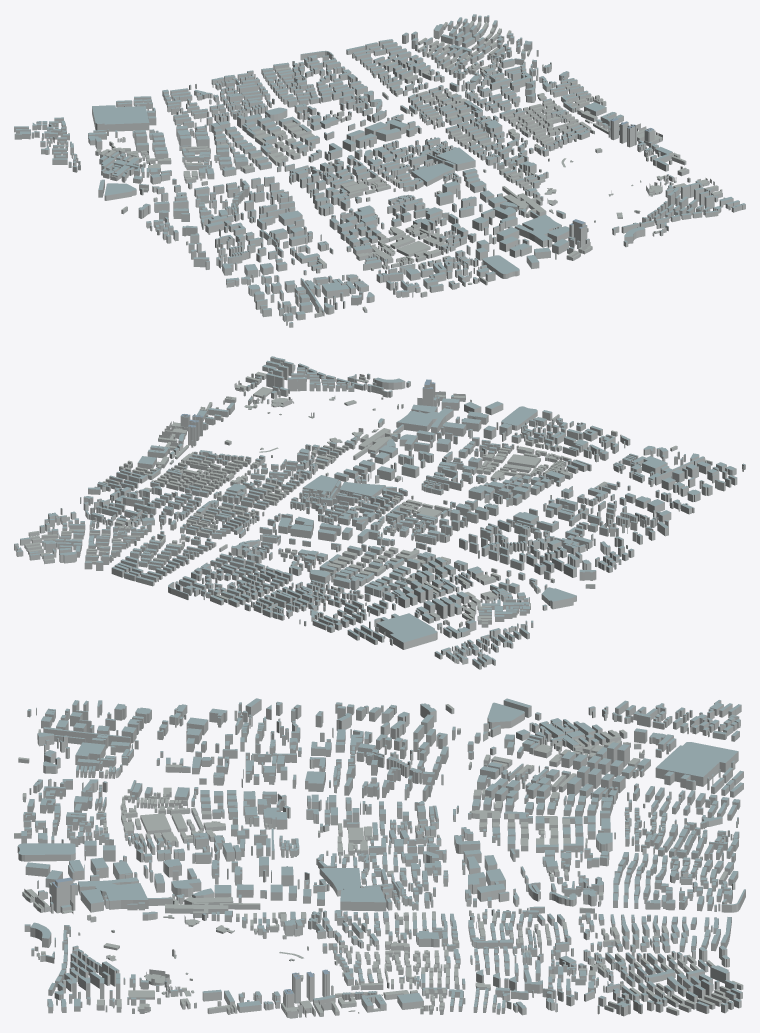
File: far.glb
3 renders of one model, top to bottom at view 1: azimuth 30°, elevation 25°; view 2: azimuth 150°, elevation 25°; view 3: azimuth 270°, elevation 25°, orthographic. The views are drawn at different scales.
Size of the model in its own units: 2160 by 96 by 2140.
